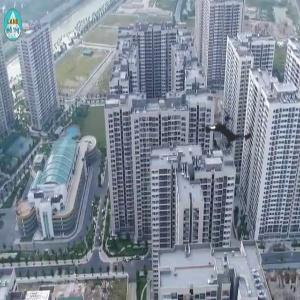drone: (187, 88, 271, 172)
